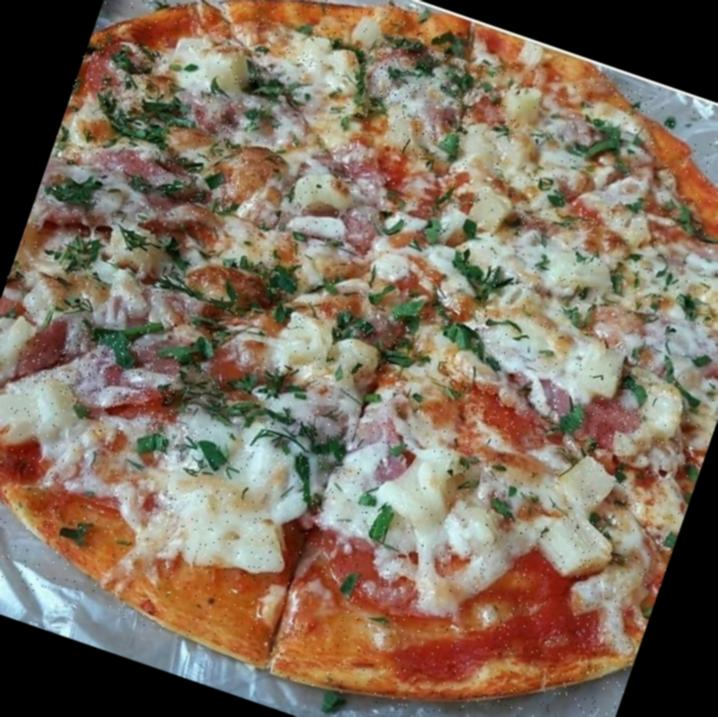Pizza: (0, 0, 718, 717)
Tomatoes: (11, 308, 188, 431), (577, 289, 718, 400), (356, 34, 478, 148), (54, 124, 175, 197), (80, 31, 163, 114), (463, 378, 550, 443), (576, 392, 646, 458), (185, 89, 244, 143), (336, 200, 387, 256)
